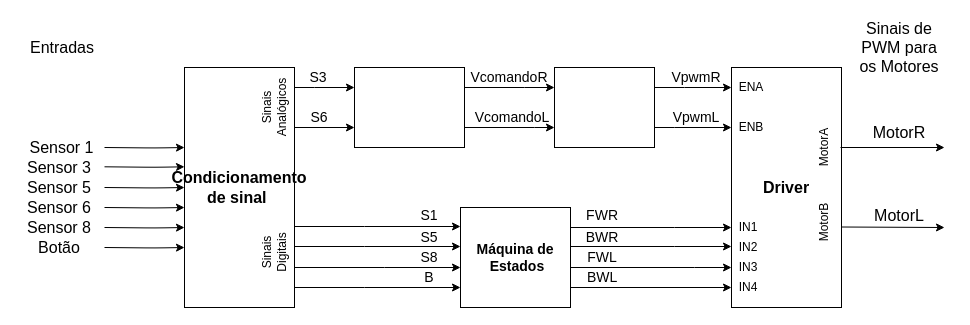
Some shapes in this 970 by 325 pixel diagram are drawn without their labels. The centre of each missing label's shape, as x and y in pixels:
Atuação dos sinais PWM: the point at 604,107
Controlo da Velocidade dos Motores: the point at 409,107
